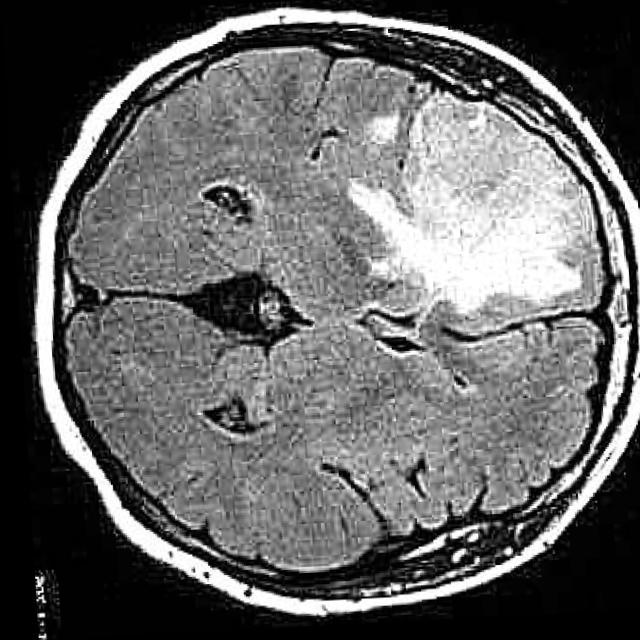Tumor: (347, 91, 577, 318)
